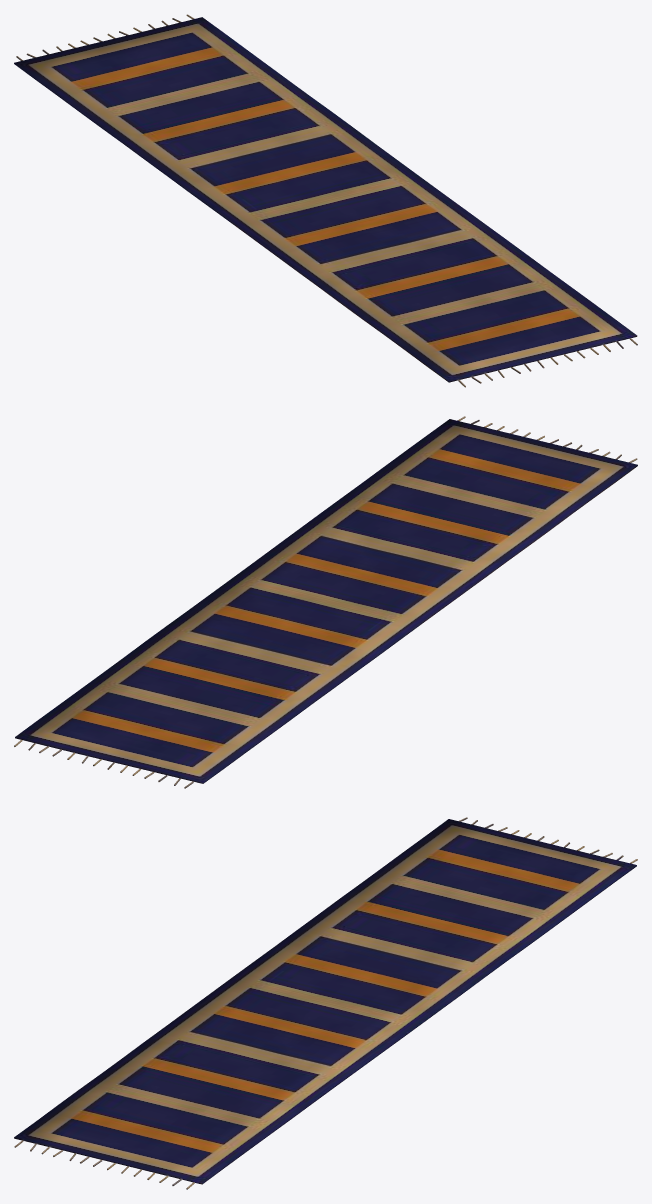
Rendered from rug_runner.glb.
The picture shows the model from 3 angles, top to bottom: view 1: azimuth 30°, elevation 25°; view 2: azimuth 150°, elevation 25°; view 3: azimuth 330°, elevation 25°; orthographic projection.
Visible parts, largest first — view 1: rug_runner; view 2: rug_runner; view 3: rug_runner.
Boxes of the visible parts, x1,y1,x2,y2 form: rug_runner: [14, 14, 637, 387]; rug_runner: [14, 416, 637, 788]; rug_runner: [14, 817, 637, 1189].
Bounding box in the file's own units: 1 × 0.0152 × 4.14.
1 material, 1 textured.
